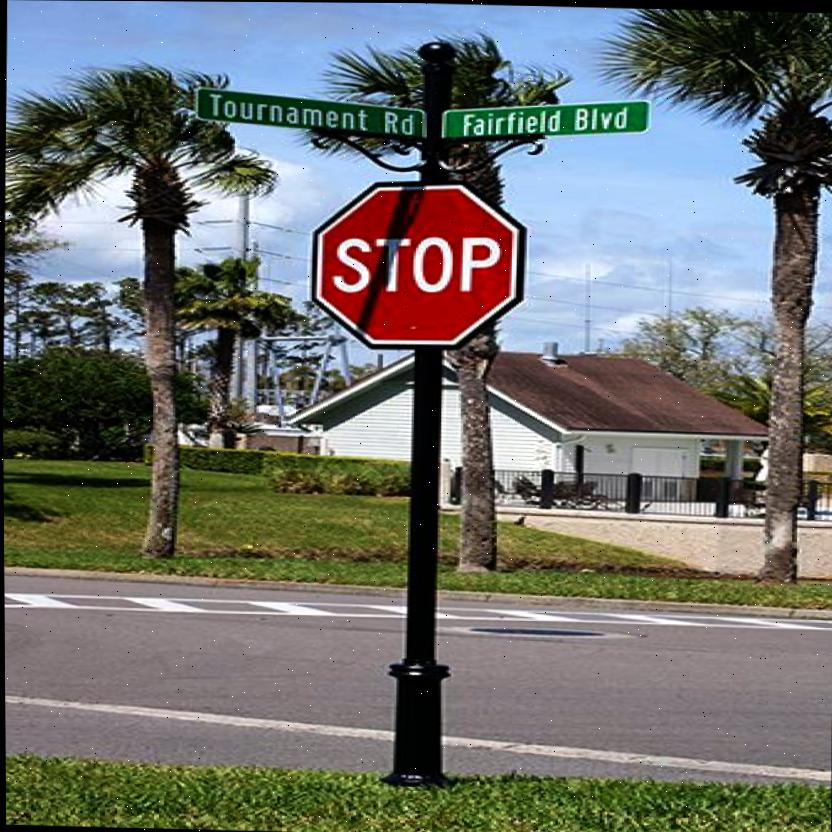Pole: (389, 342, 454, 779)
Sign: (321, 183, 513, 342)
